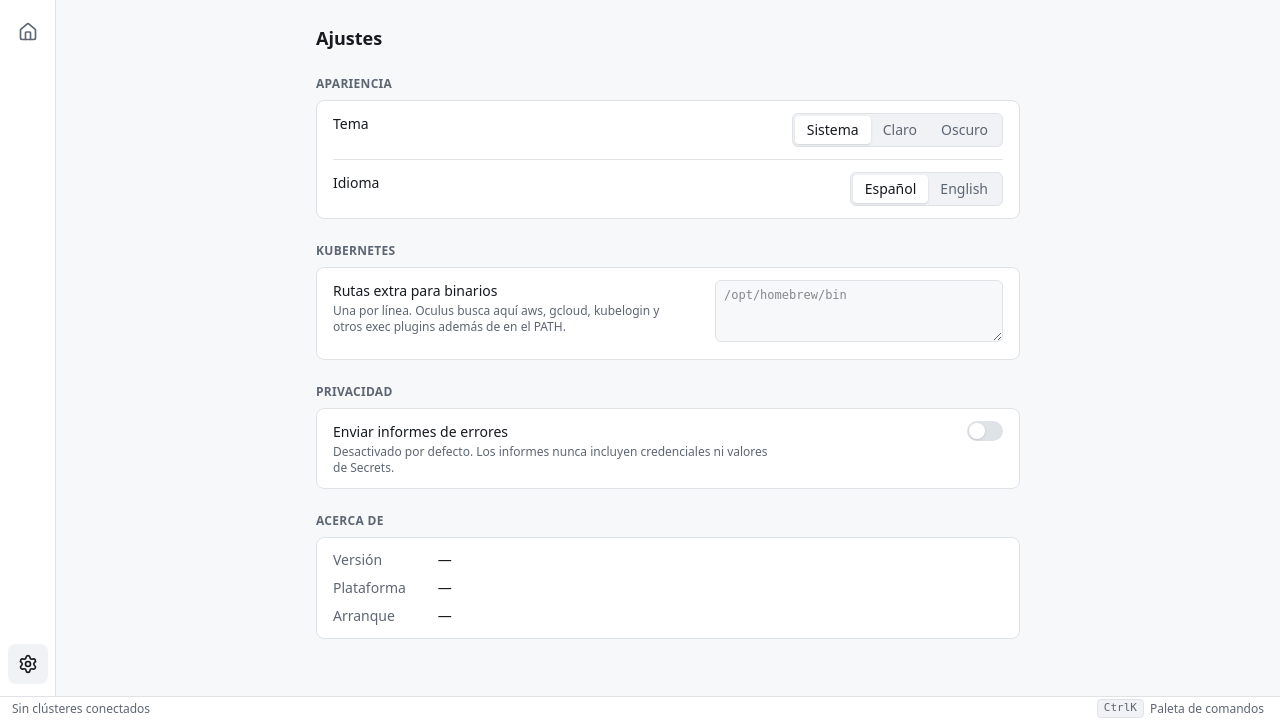
Test case: shell de la app › muestra el error del backend con su pista si un ajuste se rechaza
Click the radio button labelled "Claro": (900, 130) [871,116,929,144]
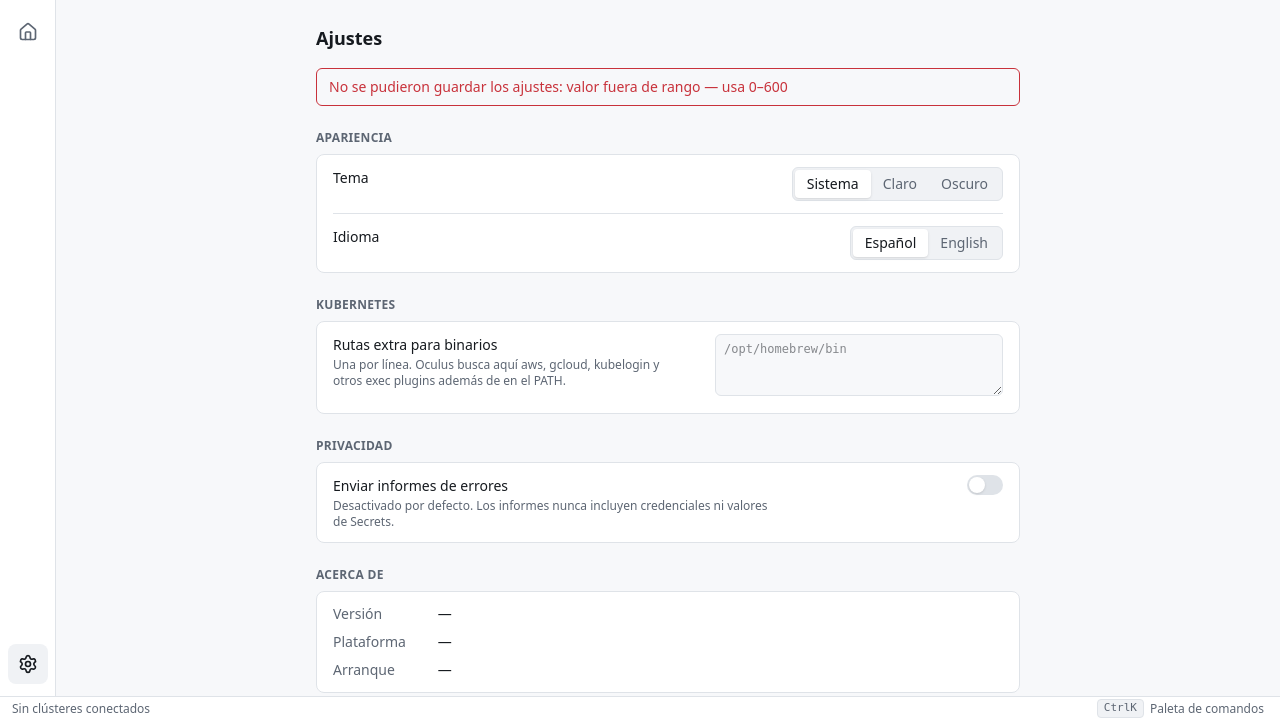
Check: the message shows "valor fuera de rango — usa 0–600", box [316,68,1020,106]
